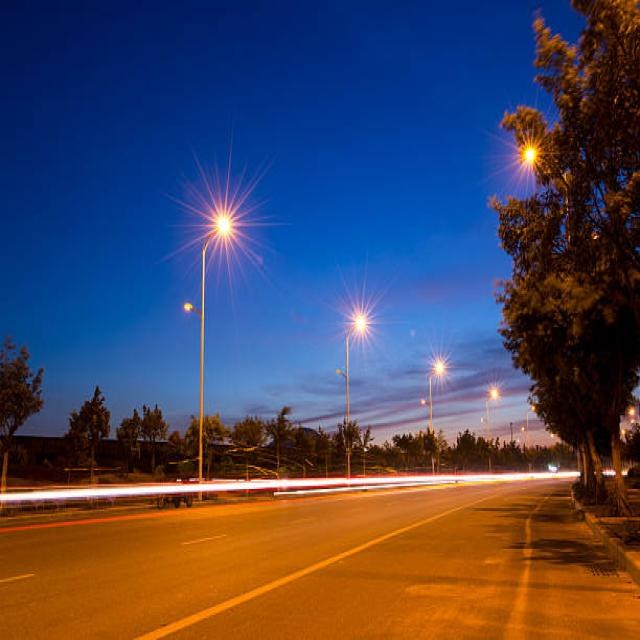acesa: (332, 268, 392, 352), (424, 336, 456, 388), (209, 205, 238, 242), (517, 136, 544, 170), (488, 384, 501, 402)
